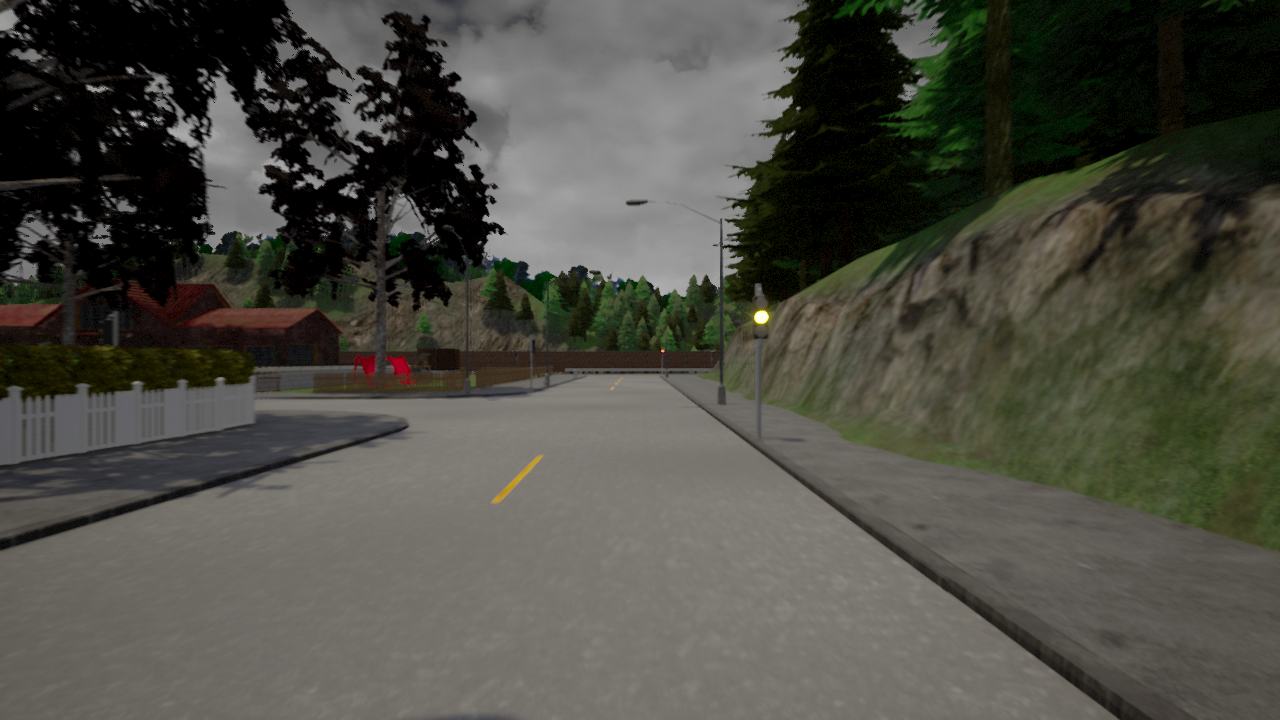yellow: (750, 292, 771, 340)
